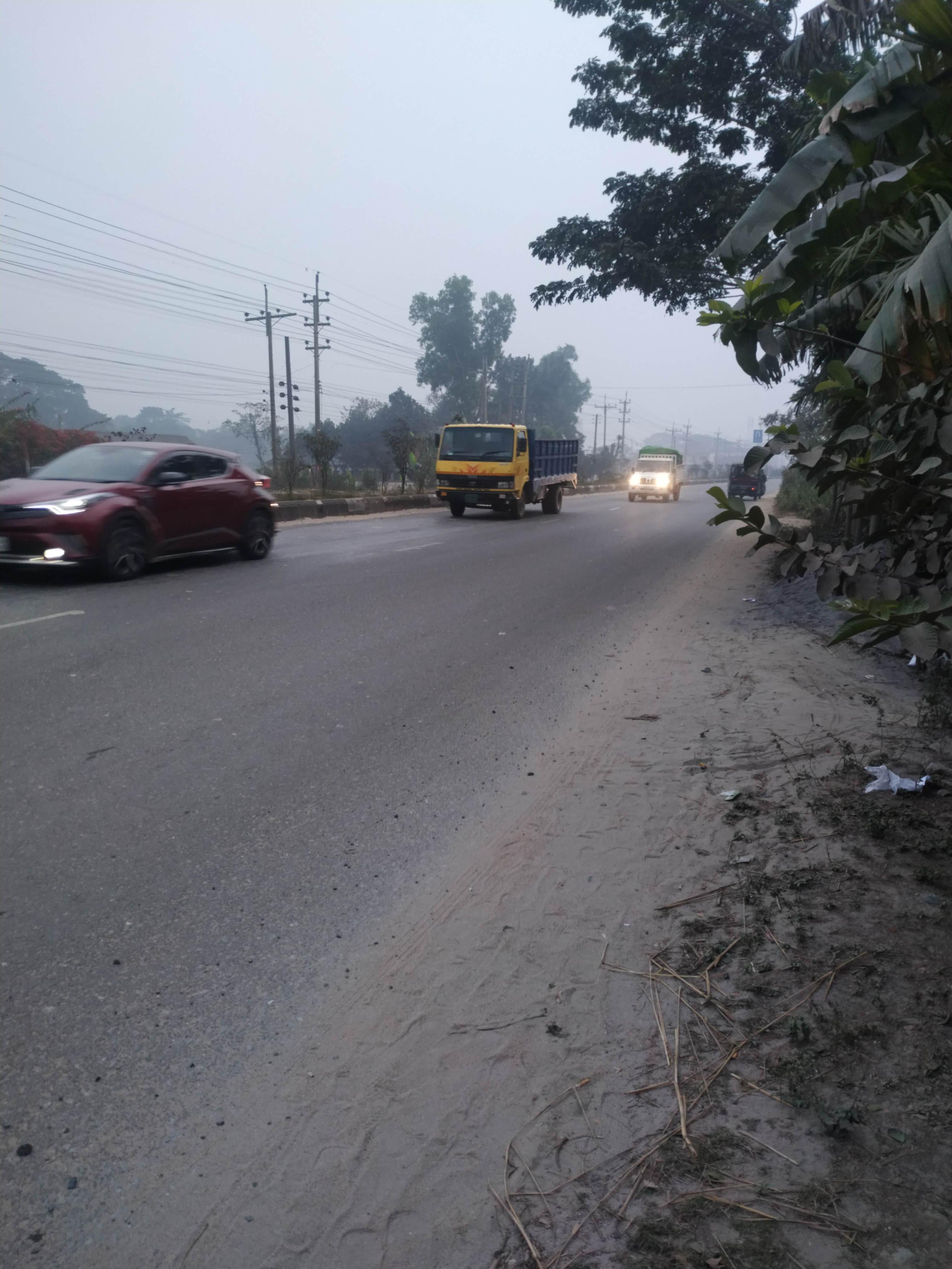Car: (1, 411, 299, 593)
Truck: (415, 399, 603, 536), (617, 435, 702, 517)
